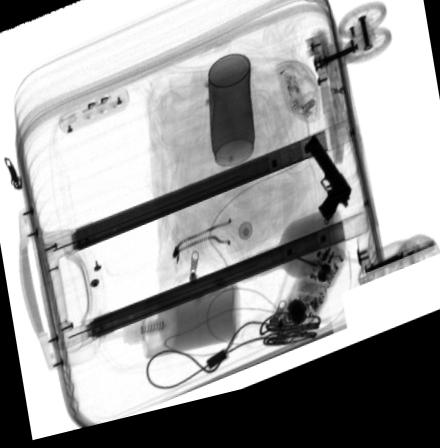Gun: (303, 150, 352, 240)
